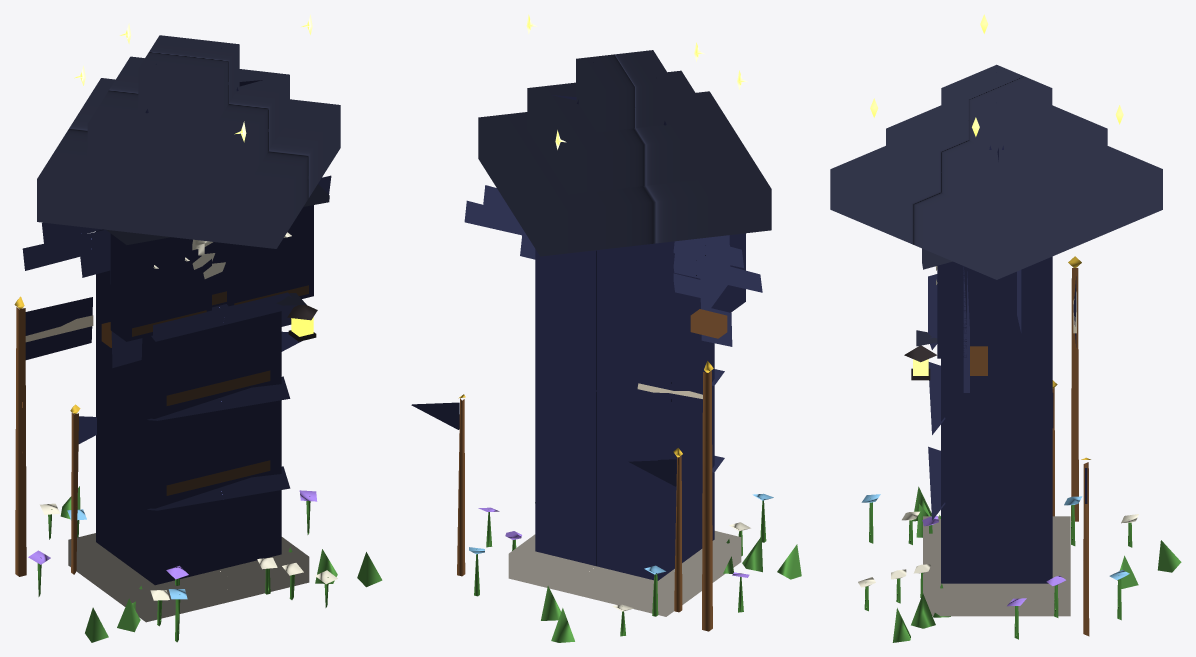
Rendered from bat-roost-blocky_lod1.glb.
3 renders of one model, left to right at view 1: azimuth 30°, elevation 25°; view 2: azimuth 150°, elevation 25°; view 3: azimuth 270°, elevation 25°, orthographic. The views are drawn at different scales.
Visible parts, largest first — view 1: lv3, lv2, lv1; view 2: lv3, lv2; view 3: lv3, lv2.
Boxes of the visible parts, left/top/right/bottom form: lv3: left=14, top=14, right=382, bottom=642; lv2: left=67, top=80, right=337, bottom=632; lv1: left=132, top=547, right=292, bottom=609; lv3: left=411, top=14, right=801, bottom=642; lv2: left=505, top=95, right=762, bottom=620; lv3: left=830, top=14, right=1181, bottom=642; lv2: left=891, top=148, right=1138, bottom=628.
Bounding box in the file's own units: 1.6 × 2.55 × 1.57.
